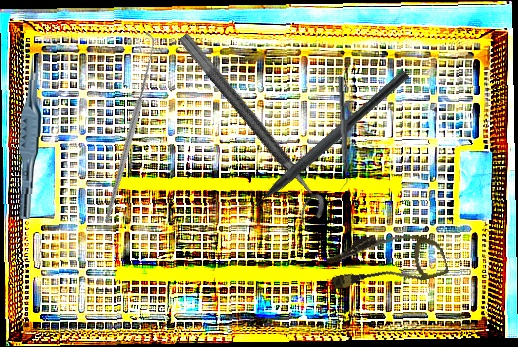Cannula: (323, 219, 450, 303)
Chopper: (231, 58, 410, 223), (330, 76, 352, 193)
Fixation Ring: (163, 31, 332, 229)
Hook Surgical: (30, 31, 225, 225)
Tissue Forceps: (18, 54, 43, 220)
